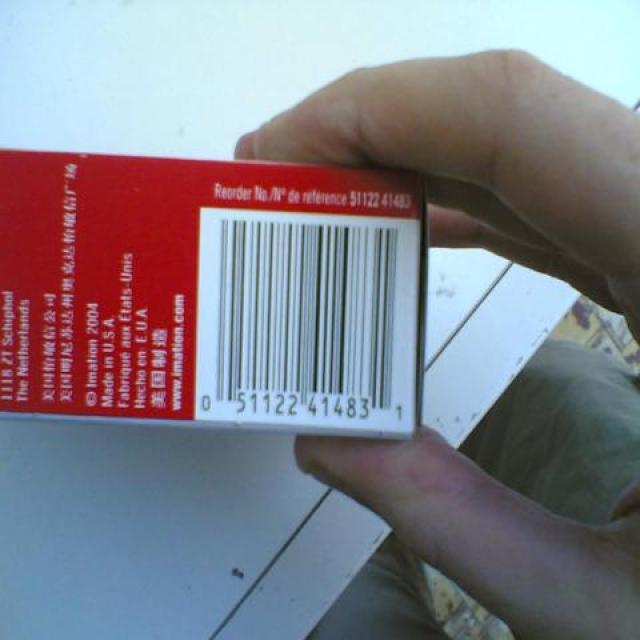Barcode: (193, 205, 415, 434)
